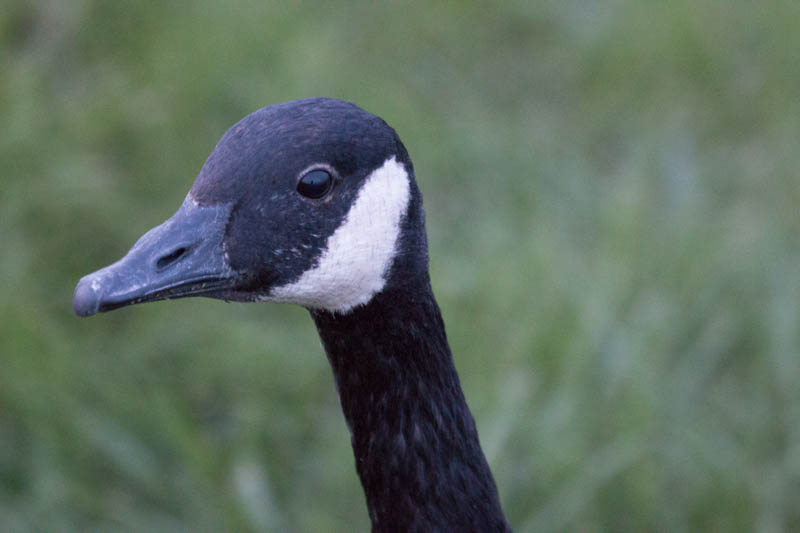goose-head: (70, 97, 428, 322)
